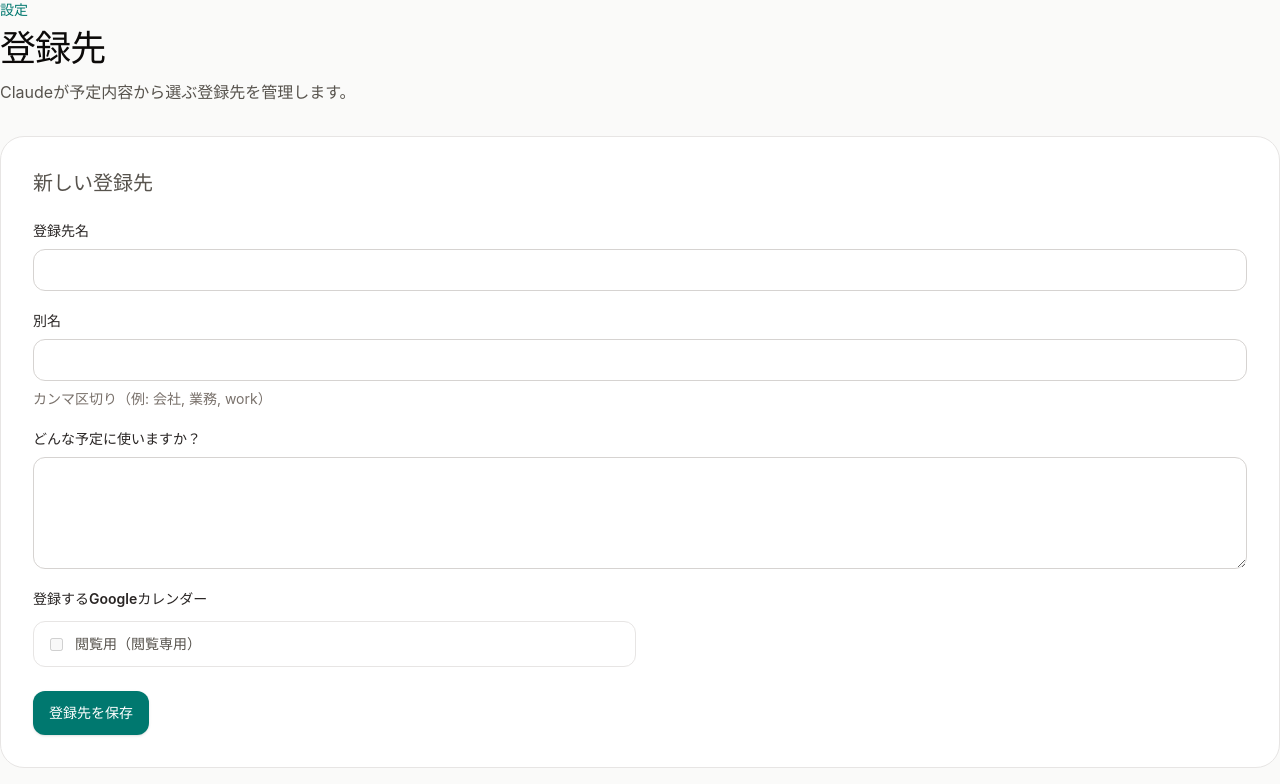
登録先設定 › 名称と書込可能Calendar Mappingがない不正フォームを拒否する
Check: the checkbox labelled "閲覧用（閲覧専用）" is disabled, box [50,638,63,650]
Click the button "登録先を保存" at (91, 713), box [33,691,149,735]
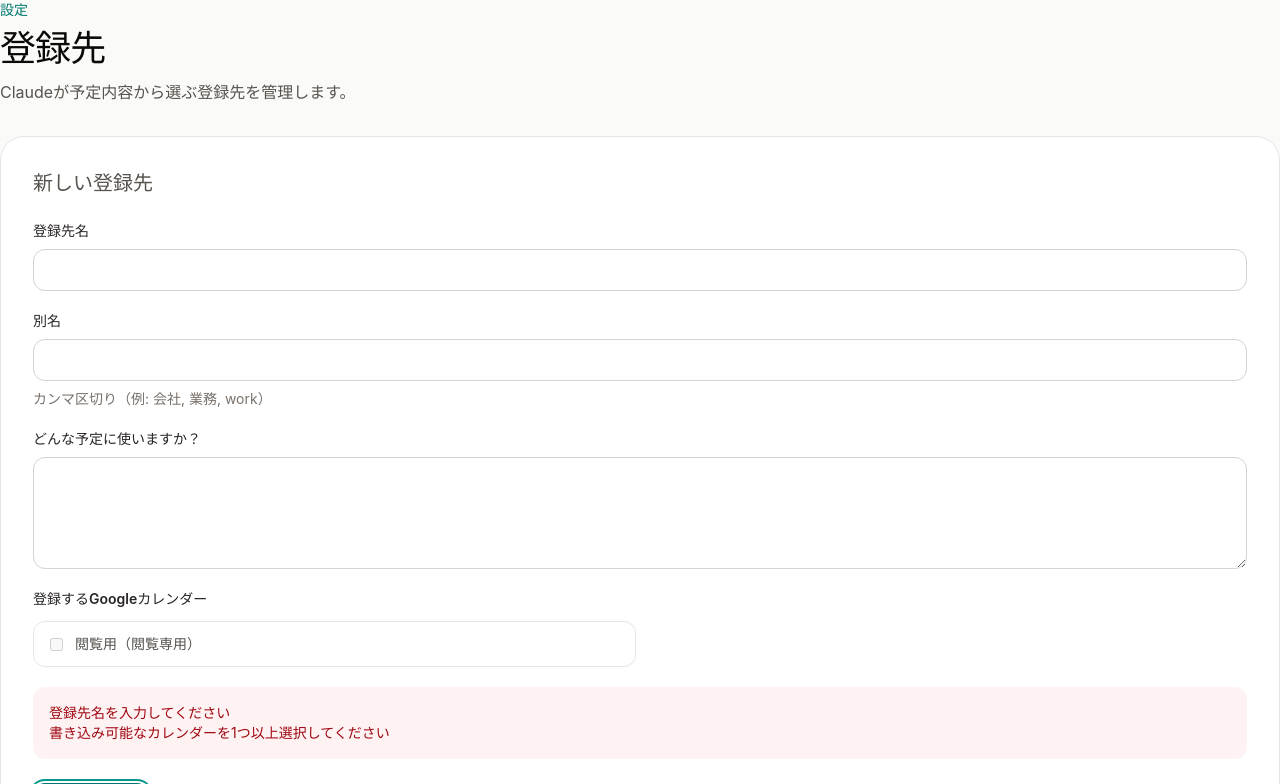
Check: the list item "登録先名を入力してください" is shown, box [49,704,230,721]
Check: the list item "書き込み可能なカレンダーを1つ以上選択してください" is shown, box [49,724,390,741]
